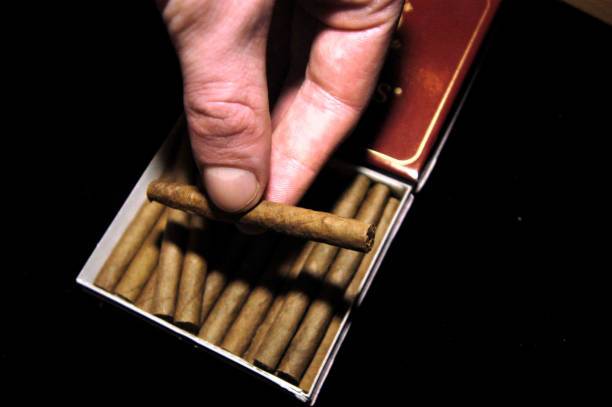cigarette: (145, 179, 377, 253), (91, 170, 176, 294), (302, 172, 373, 278), (322, 182, 389, 290), (343, 195, 402, 304), (114, 203, 169, 303), (150, 201, 190, 322), (172, 214, 213, 329), (278, 299, 332, 382), (253, 291, 309, 371), (298, 314, 342, 395), (198, 279, 249, 345), (224, 286, 272, 355), (241, 295, 287, 366), (286, 239, 317, 282), (136, 261, 159, 315), (200, 272, 223, 323), (279, 257, 296, 277)
